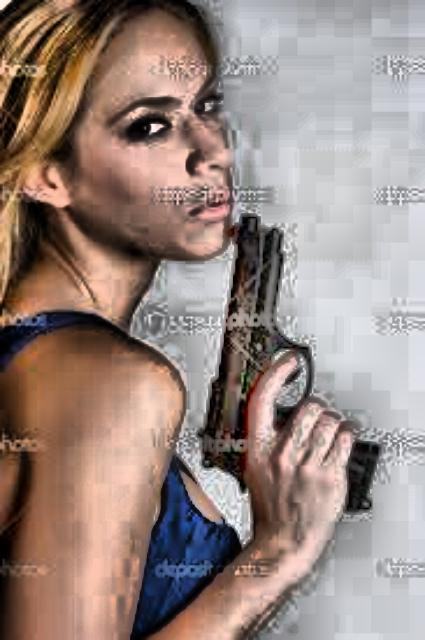pistol: (200, 207, 374, 518)
